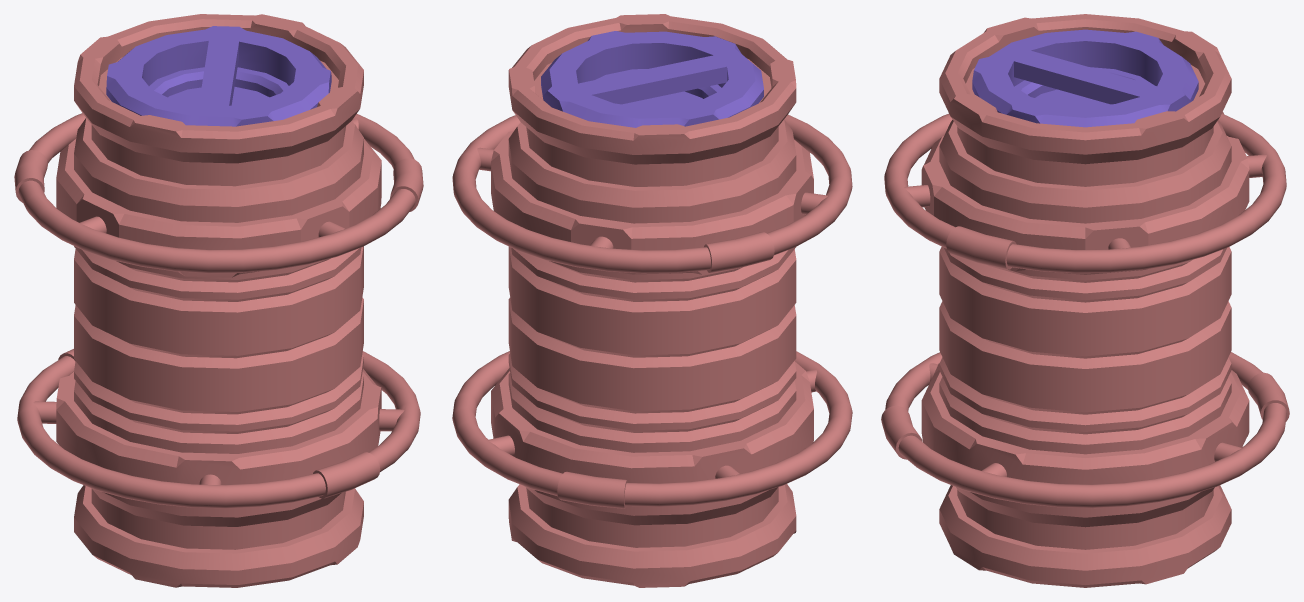
File: World_Battery.fbx
The picture shows the model from 3 angles, left to right: view 1: azimuth 30°, elevation 25°; view 2: azimuth 150°, elevation 25°; view 3: azimuth 270°, elevation 25°; orthographic projection.
Visible parts, largest first — view 1: World_Battery; view 2: World_Battery; view 3: World_Battery.
Part boxes in pixels (box(x1,y1,x2,y2)): World_Battery: box(14, 14, 423, 587); World_Battery: box(452, 14, 852, 587); World_Battery: box(881, 14, 1289, 587).
Bounding box in the file's own units: 0.497 × 0.62 × 0.5042.
